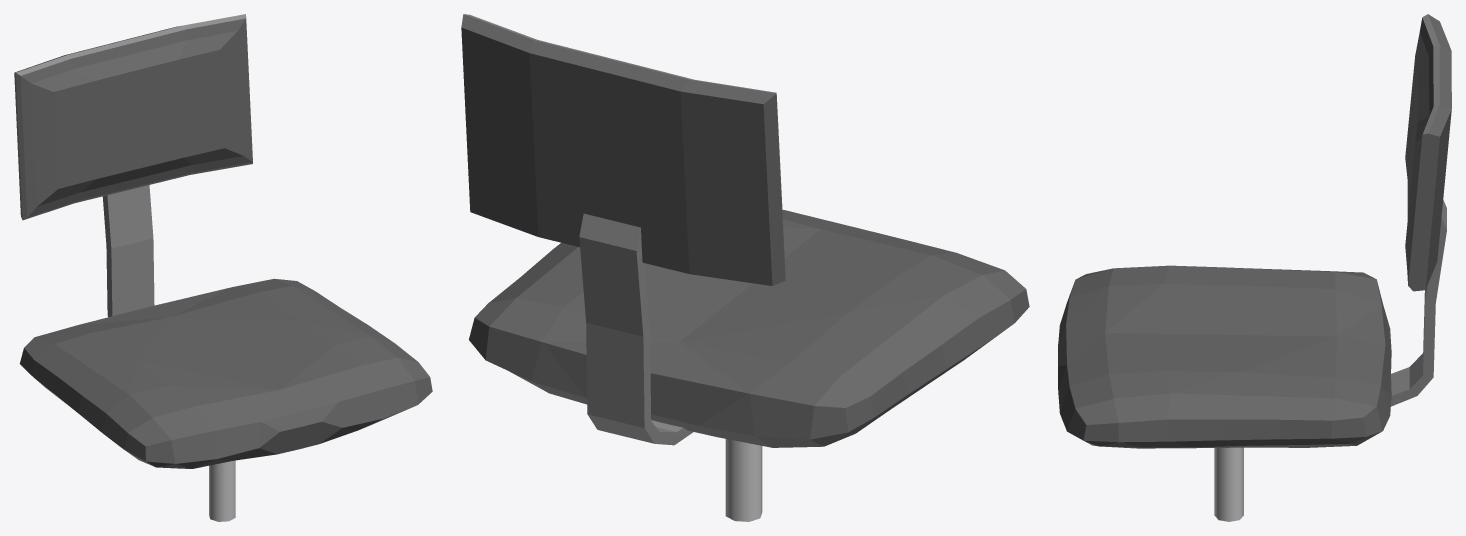
Rendered from Chair Body.fbx.
3 views of the same model, side by side, from view 1: azimuth 30°, elevation 25°; view 2: azimuth 150°, elevation 25°; view 3: azimuth 270°, elevation 25° (orthographic). The views are drawn at different scales.
Visible parts, largest first — view 1: Chair Body; view 2: Chair Body; view 3: Chair Body.
Boxes of the visible parts, x1=… form: Chair Body: x1=14, y1=14, x2=432, y2=521; Chair Body: x1=461, y1=14, x2=1029, y2=521; Chair Body: x1=1058, y1=14, x2=1451, y2=521.
Size of the model in its own units: 54.46 by 71.13 by 57.29.
